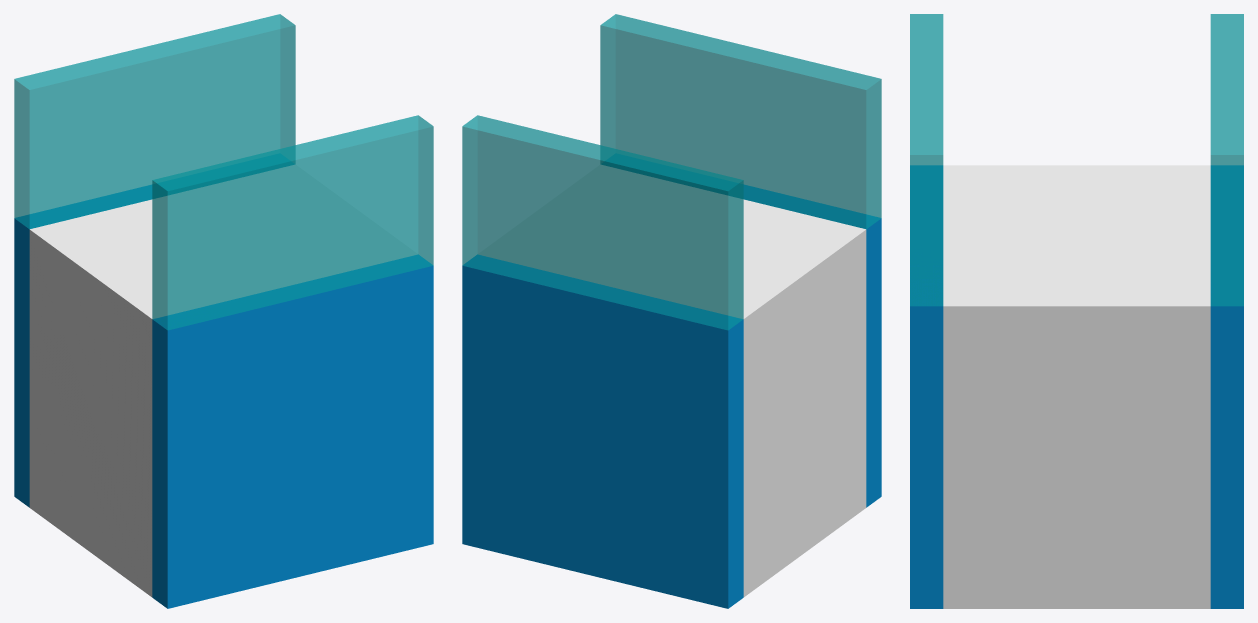
3 views of the same model, side by side, from view 1: azimuth 30°, elevation 25°; view 2: azimuth 150°, elevation 25°; view 3: azimuth 270°, elevation 25° (orthographic). The views are drawn at different scales.
Visible parts, largest first — view 1: 2, 立方体.004, 立方体.006; view 2: 2, 立方体.006, 立方体.004; view 3: 2, 立方体.004, 立方体.006.
Part boxes in pixels (x1,y1,x2,y2): 2: (14,165,433,608); 立方体.004: (152,115,433,330); 立方体.006: (14,14,295,229); 2: (462,165,881,608); 立方体.006: (462,115,743,330); 立方体.004: (600,14,881,229); 2: (910,165,1243,608); 立方体.004: (910,14,943,306); 立方体.006: (1210,14,1243,306).
Size of the model in its own units: 2000 by 3000 by 2000.
